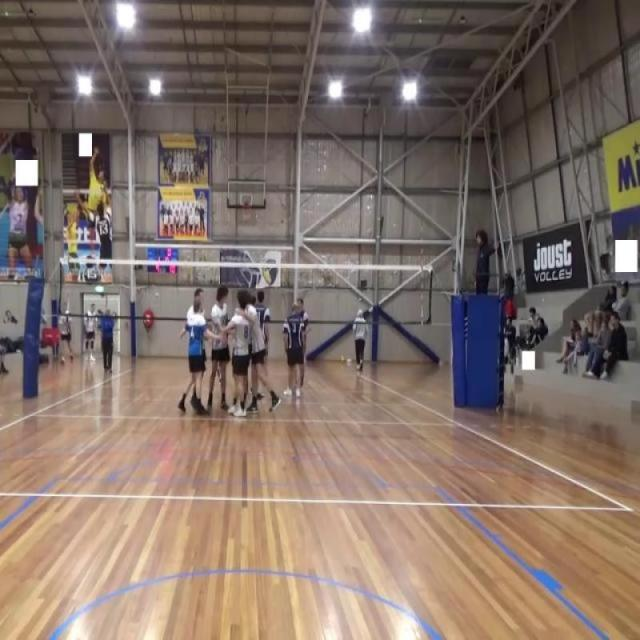volleyball: (340, 354, 345, 364)
